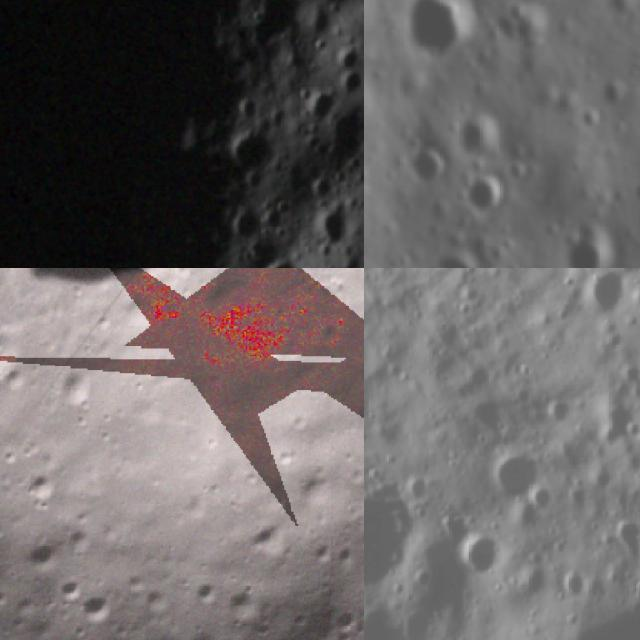crater: (397, 0, 488, 75), (364, 482, 413, 591), (43, 354, 107, 418), (12, 519, 74, 581), (243, 506, 300, 565), (452, 110, 507, 166), (72, 579, 124, 633), (585, 271, 632, 329), (15, 459, 67, 510), (486, 452, 539, 502), (462, 168, 512, 220), (225, 132, 276, 181), (218, 580, 268, 629), (313, 206, 360, 256), (561, 225, 614, 268), (462, 528, 502, 581), (407, 142, 449, 192), (187, 569, 228, 611), (543, 394, 585, 433), (598, 77, 638, 116), (54, 569, 92, 607), (228, 210, 265, 249), (304, 90, 340, 126), (329, 599, 364, 636), (422, 248, 485, 268), (562, 570, 592, 611), (610, 520, 640, 560), (593, 461, 627, 492), (520, 483, 554, 512), (336, 71, 364, 104), (329, 47, 361, 75)
